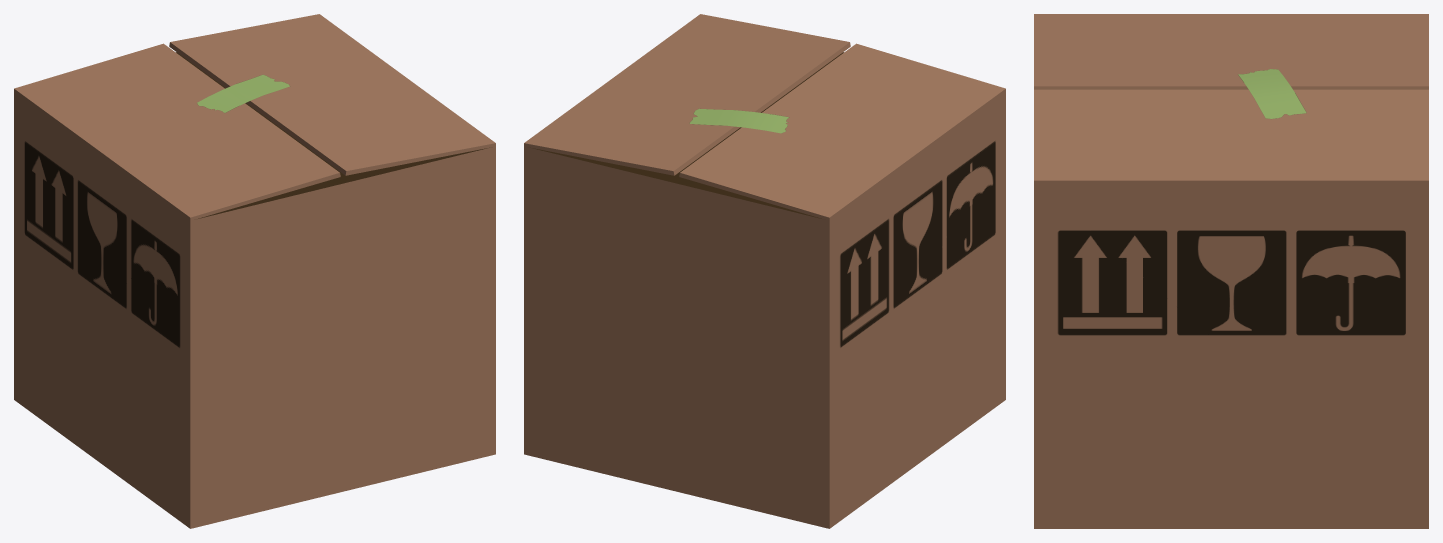
3 views of the same model, side by side, from view 1: azimuth 30°, elevation 25°; view 2: azimuth 150°, elevation 25°; view 3: azimuth 270°, elevation 25° (orthographic). The views are drawn at different scales.
Parts seen in each view (by area): view 1: box, tape; view 2: box, tape; view 3: box, tape.
Boxes of the visible parts, box(x1,y1,x2,y2) form: box: box(14, 14, 495, 528); tape: box(197, 74, 290, 112); box: box(524, 14, 1005, 528); tape: box(689, 108, 789, 133); box: box(1034, 14, 1428, 528); tape: box(1238, 69, 1306, 118).
Size of the model in its own units: 0.75 by 0.7505 by 0.75.
Materials: 3 (2 with a texture image).
